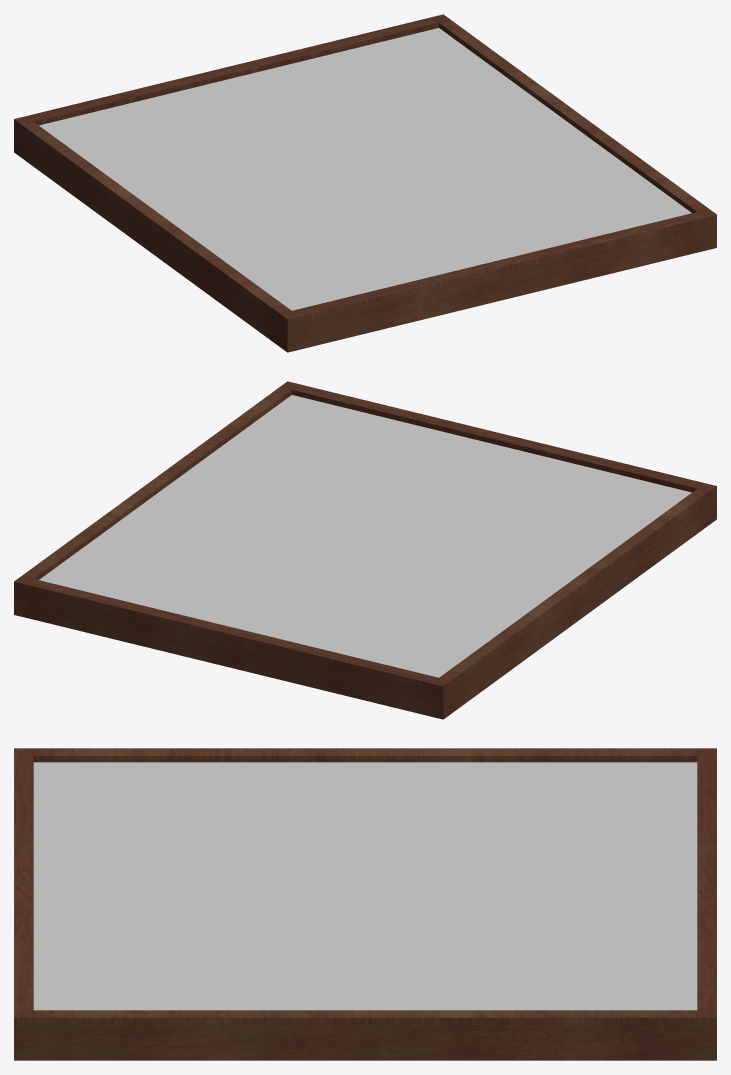
The model's file is TFJ.obj.
The picture shows the model from 3 angles, top to bottom: view 1: azimuth 30°, elevation 25°; view 2: azimuth 150°, elevation 25°; view 3: azimuth 270°, elevation 25°; orthographic projection. The views are drawn at different scales.
Visible parts, largest first — view 1: Cube_Cube.001; view 2: Cube_Cube.001; view 3: Cube_Cube.001.
Part boxes in pixels (bbox=[...]): Cube_Cube.001: bbox=[14, 14, 716, 352]; Cube_Cube.001: bbox=[14, 381, 716, 719]; Cube_Cube.001: bbox=[14, 748, 716, 1060].
Bounding box in the file's own units: 24.83 × 1.84 × 27.41.
